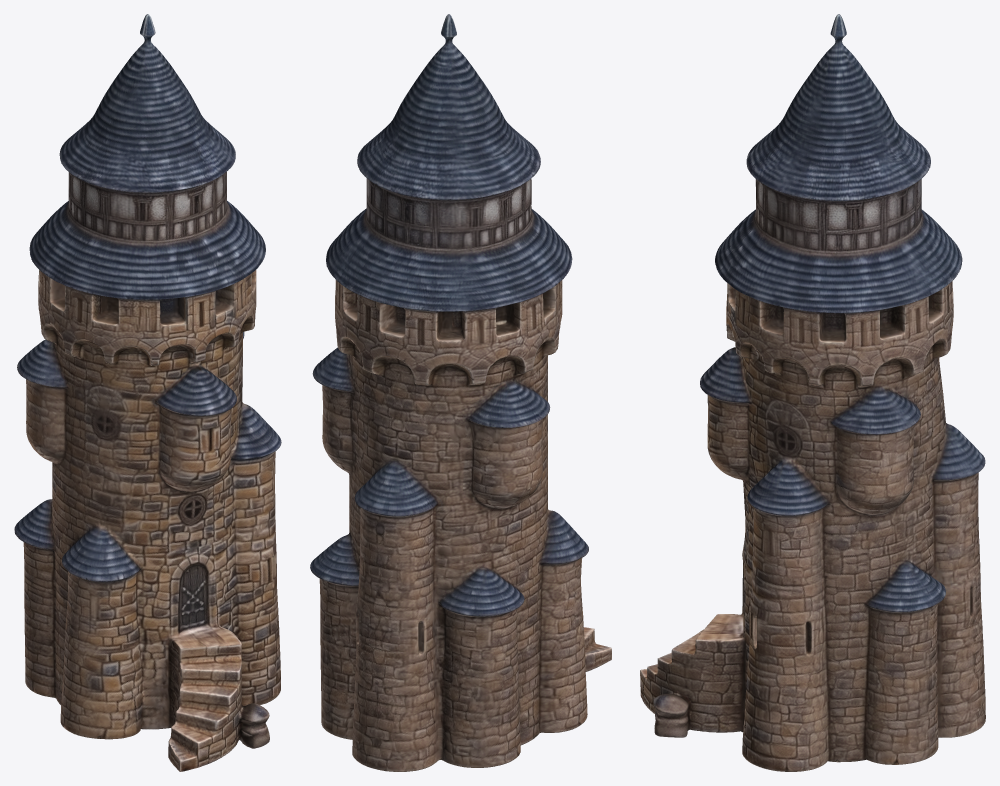
Rendered from wachturm.glb.
3 views of the same model, side by side, from view 1: azimuth 30°, elevation 25°; view 2: azimuth 150°, elevation 25°; view 3: azimuth 270°, elevation 25° (orthographic). The views are drawn at different scales.
Bounding box in the file's own units: 0.6329 × 1.9 × 0.8405.
1 material, 1 textured.
